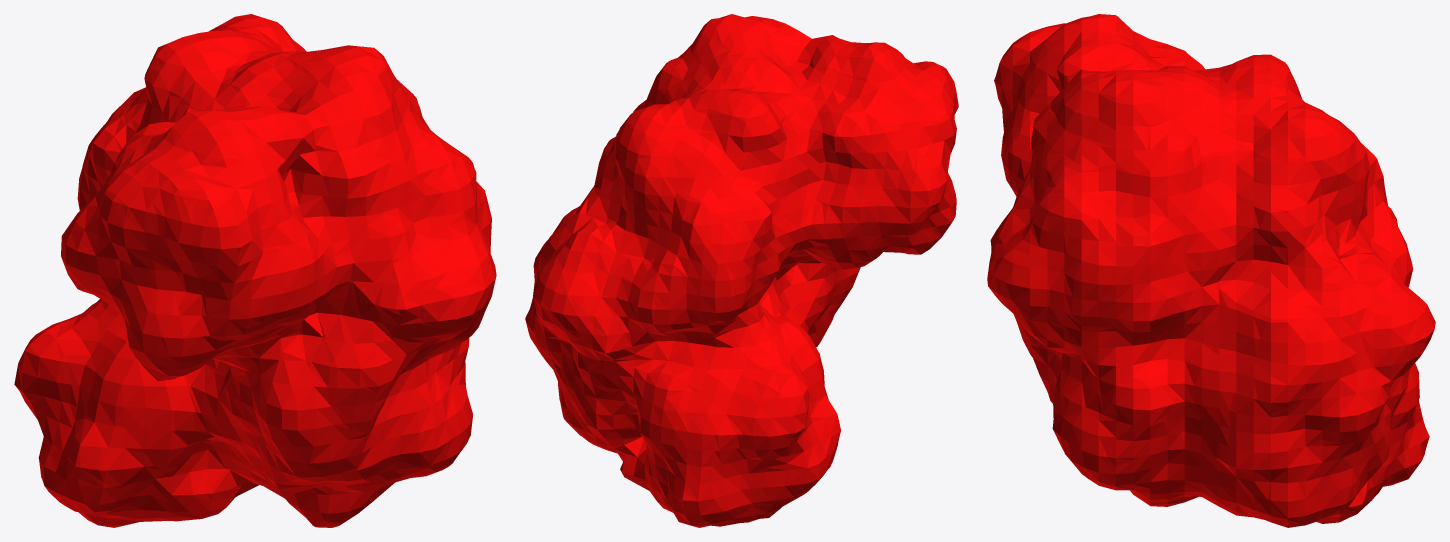
Rendered from eutB_coarse.dae.
3 renders of one model, left to right at view 1: azimuth 30°, elevation 25°; view 2: azimuth 150°, elevation 25°; view 3: azimuth 270°, elevation 25°, orthographic. The views are drawn at different scales.
Parts seen in each view (by area): view 1: eutB; view 2: eutB; view 3: eutB.
Boxes of the visible parts, bbox=[...] form: eutB: bbox=[14, 14, 496, 527]; eutB: bbox=[525, 14, 958, 527]; eutB: bbox=[987, 14, 1435, 527].
Bounding box in the file's own units: 81.38 × 98.05 × 84.62.
